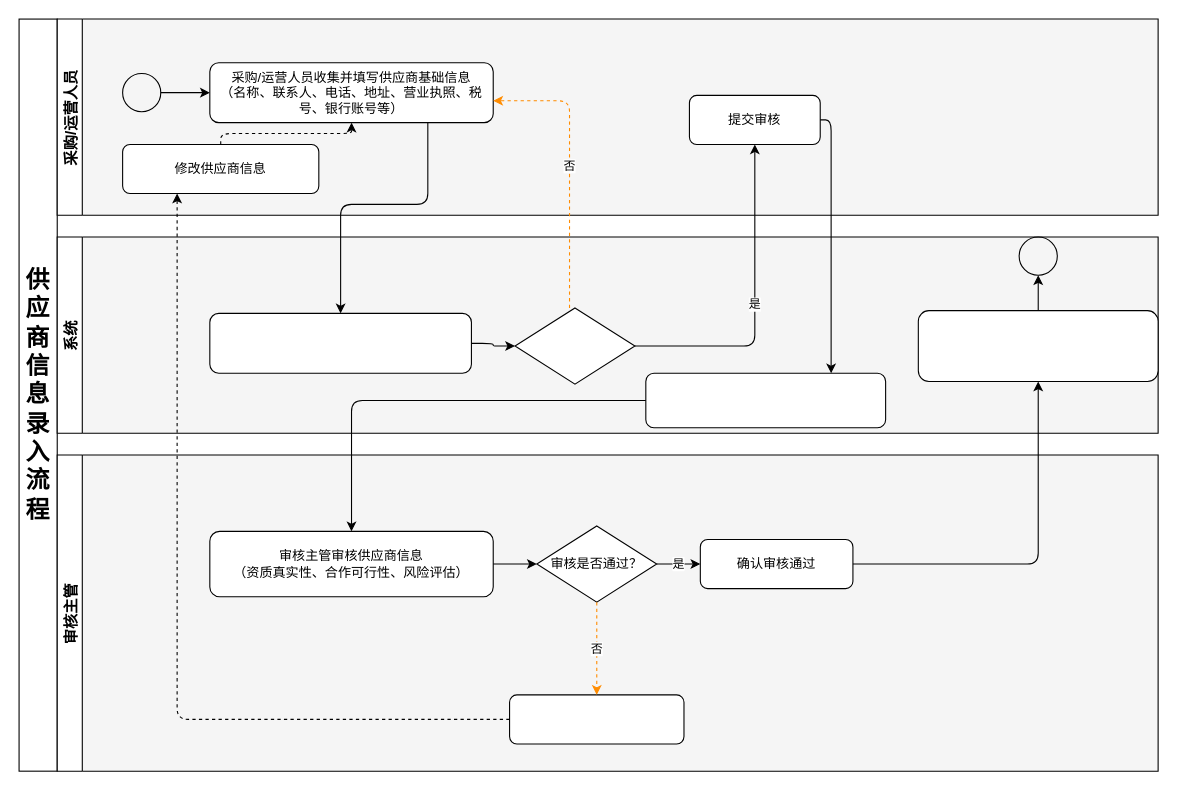
The diagram is 1177 pixels wide and 790 high, and some of its shapes have lost their labels. The shapes that lost their labels are listed below. From the top down, each one's centre as x and y in pixels, then its label:
the point at 340,342: 系统自动校验供应商信息 （必填项、格式、重复供应商检查）
the point at 574,345: 校验是否通过？
the point at 1037,346: 系统生成唯一供应商编码 更新供应商主数据 状态设为“已启用”
the point at 765,400: 系统记录提交日志并通知审核主管
the point at 596,719: 填写驳回意见并退回
